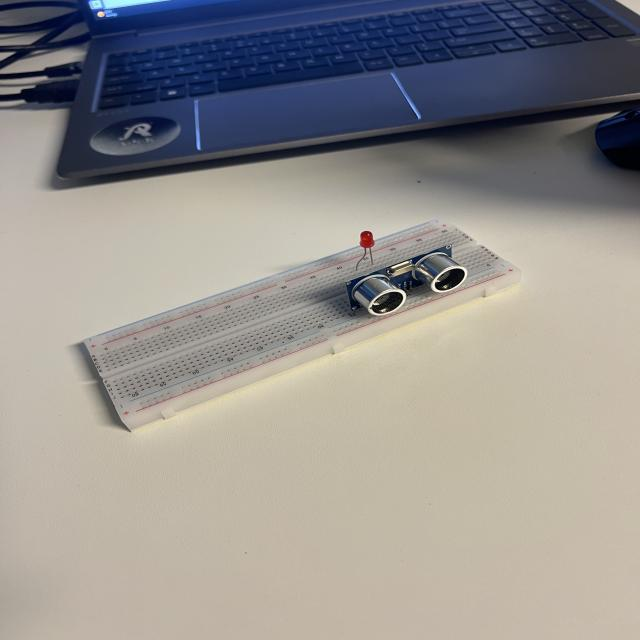BreadBoard: (77, 218, 515, 415)
REDLed: (352, 222, 386, 270)
UltrasoneSensor: (333, 241, 481, 330)
